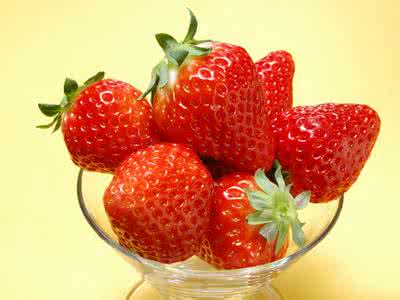strawberry: (149, 39, 270, 166), (266, 101, 387, 203), (112, 138, 213, 256), (43, 68, 159, 169), (200, 162, 310, 264), (255, 46, 294, 111)
